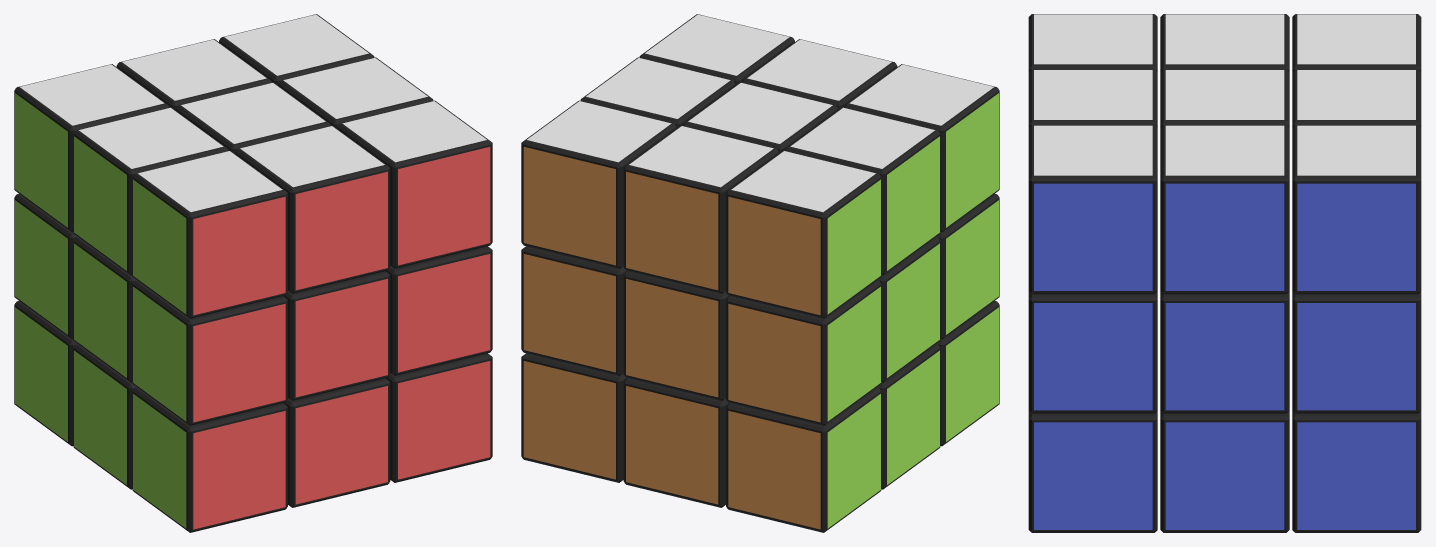
3 renders of one model, left to right at view 1: azimuth 30°, elevation 25°; view 2: azimuth 150°, elevation 25°; view 3: azimuth 270°, elevation 25°, orthographic. The views are drawn at different scales.
Parts seen in each view (by area): view 1: f_-y_1, f_-y_3, f_-y_4, f_-y_5, f_-y_6, f_-y_7, f_-y_8, f_-y_2, f_-y_9, f_-x_8, f_-x_9, f_-x_7 (+34 smaller); view 2: f_y_7, f_y_9, f_y_4, f_y_5, f_y_6, f_y_1, f_y_2, f_y_8, f_y_3, f_-x_2, f_-x_3, f_-x_1 (+34 smaller); view 3: f_x_6, f_x_4, f_x_5, f_x_7, f_x_8, f_x_9, f_x_1, f_x_2, f_x_3, f_z_4, f_z_6, f_z_7 (+21 smaller).
Part boxes in pixels (x1,y1,x2,y2): f_-y_1: (193, 196, 285, 315); f_-y_3: (398, 147, 490, 265); f_-y_4: (193, 303, 285, 422); f_-y_5: (295, 278, 387, 397); f_-y_6: (398, 254, 490, 372); f_-y_7: (193, 411, 285, 529); f_-y_8: (295, 386, 387, 504); f_-y_2: (295, 171, 387, 290); f_-y_9: (398, 361, 490, 479); f_-x_8: (133, 286, 186, 421); f_-x_9: (133, 179, 186, 314); f_-x_7: (133, 394, 186, 528); f_y_7: (728, 196, 820, 315); f_y_9: (523, 147, 615, 265); f_y_4: (728, 303, 820, 422); f_y_5: (626, 278, 718, 397); f_y_6: (523, 254, 615, 372); f_y_1: (728, 411, 820, 529); f_y_2: (626, 386, 718, 504); f_y_8: (626, 171, 718, 290); f_y_3: (523, 361, 615, 479); f_-x_2: (827, 286, 880, 421); f_-x_3: (827, 179, 880, 314); f_-x_1: (827, 394, 880, 528); f_x_6: (1165, 422, 1284, 529); f_x_4: (1165, 183, 1284, 290); f_x_5: (1165, 303, 1284, 410); f_x_7: (1034, 183, 1152, 290); f_x_8: (1034, 303, 1152, 410); f_x_9: (1034, 422, 1152, 529); f_x_1: (1297, 183, 1415, 290); f_x_2: (1297, 303, 1415, 410); f_x_3: (1297, 422, 1415, 529); f_z_4: (1165, 14, 1284, 64); f_z_6: (1165, 125, 1284, 175); f_z_7: (1034, 14, 1152, 64).
Size of the model in its own units: 5.98 by 5.98 by 5.98.
